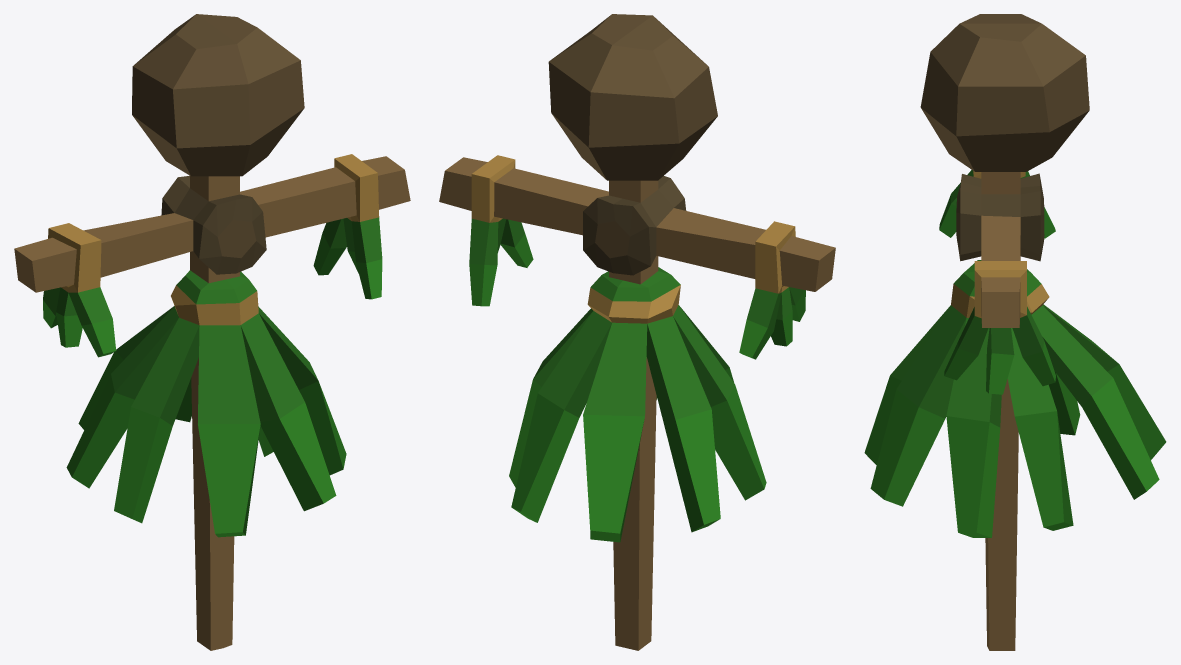
File: NativeScarecrow.fbx
The picture shows the model from 3 angles, left to right: view 1: azimuth 30°, elevation 25°; view 2: azimuth 150°, elevation 25°; view 3: azimuth 270°, elevation 25°; orthographic projection.
Visible parts, largest first — view 1: Scarecrow_Native; view 2: Scarecrow_Native; view 3: Scarecrow_Native.
Boxes of the visible parts, box(x1,y1,x2,y2) form: Scarecrow_Native: box(14, 14, 410, 650); Scarecrow_Native: box(439, 14, 835, 650); Scarecrow_Native: box(864, 14, 1166, 650).
Bounding box in the file's own units: 89.47 × 139 × 60.89.
